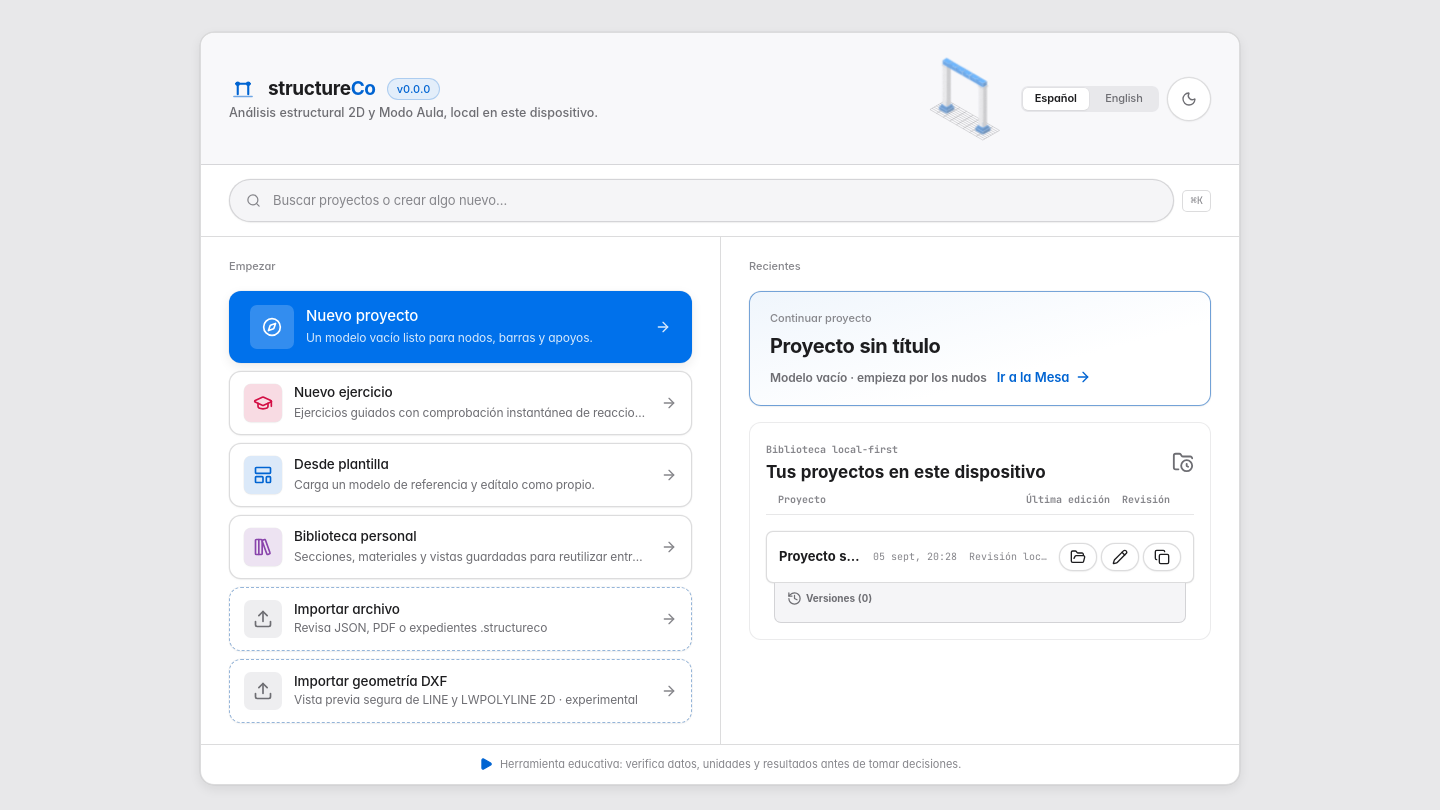
Test: WelcomeScreen header › changes the language from the welcome screen
The width and height of the screenshot is (1440, 810).
Click the radio button labelled "English": (1124, 99) [1091,88,1157,110]
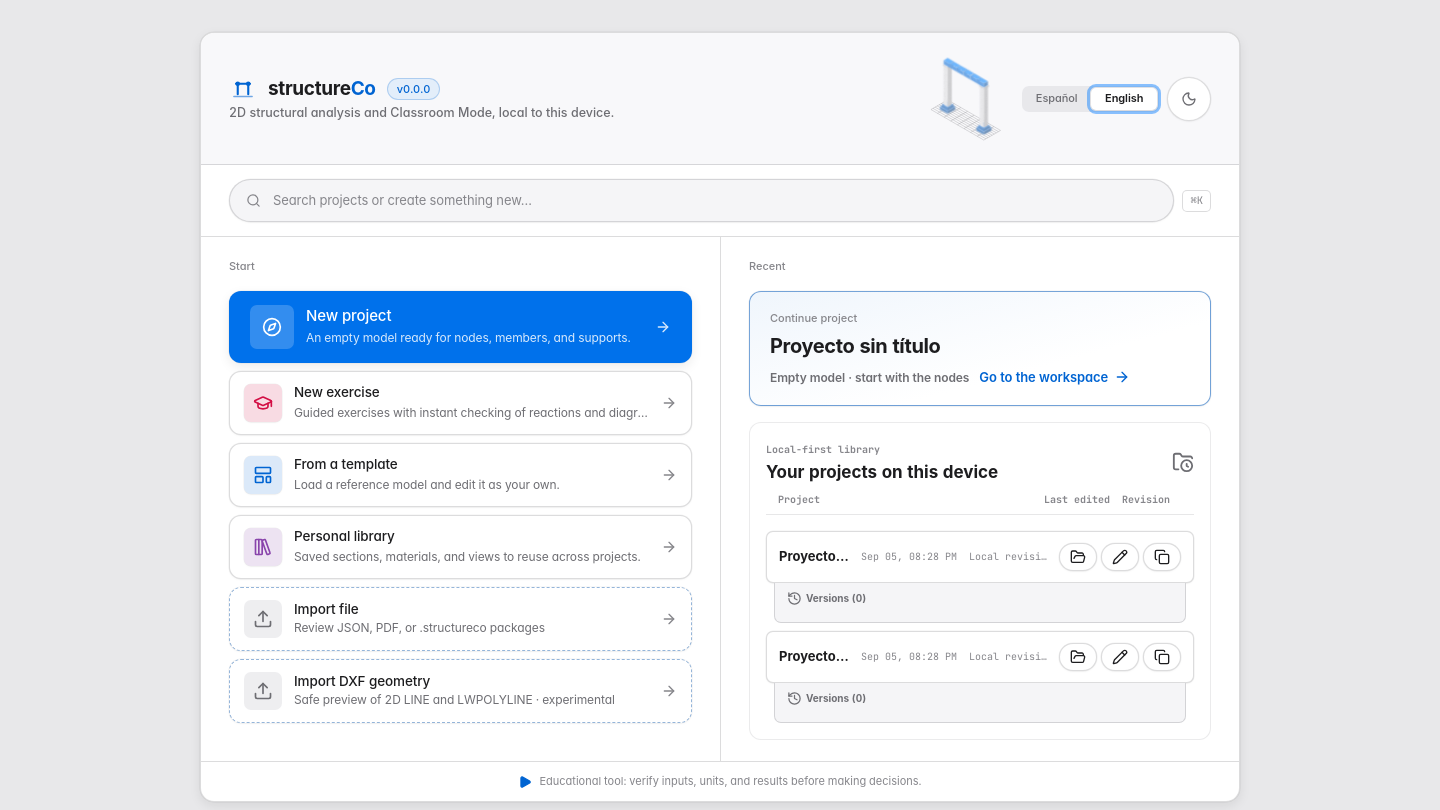
Now the text "2D structural analysis" shows "Classroom Mode", box [229,105,614,120]
